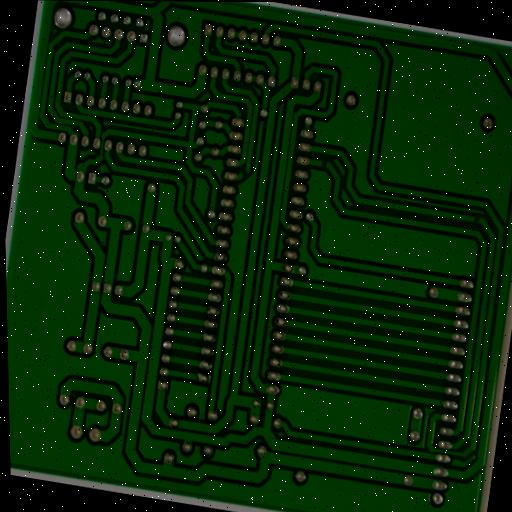open_circuit: (317, 158, 330, 172), (471, 213, 483, 227), (238, 166, 250, 179)
